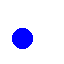circle: (12, 28, 32, 48)
